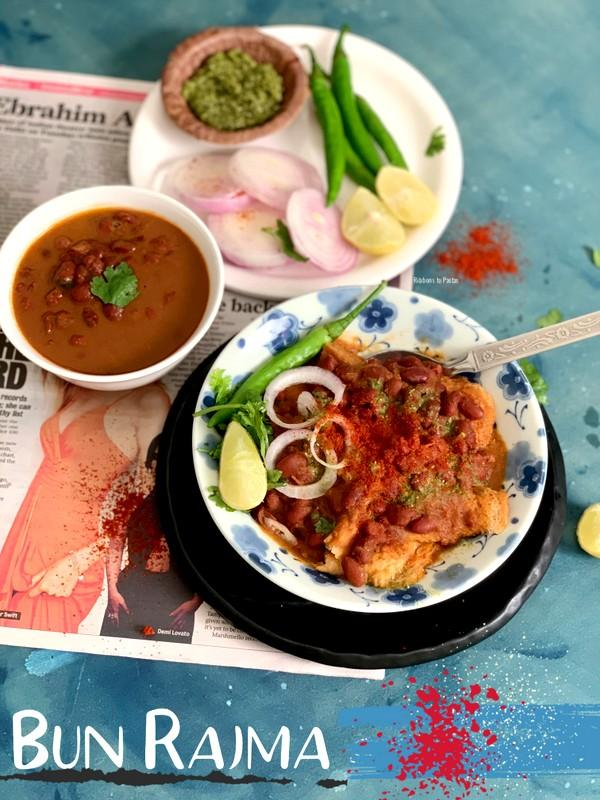rajma: (22, 206, 186, 364)
